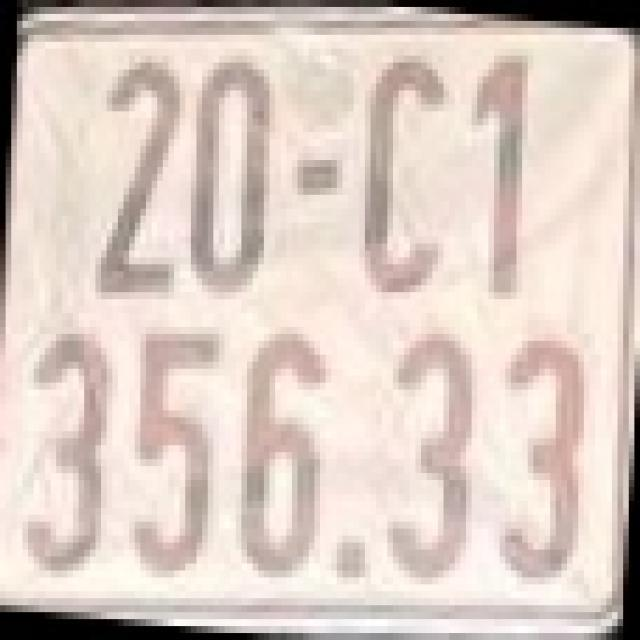0: (185, 55, 275, 292)
1: (466, 48, 539, 300)
2: (96, 56, 180, 300)
3: (388, 333, 478, 578), (22, 327, 112, 570), (500, 333, 584, 578)
5: (135, 327, 219, 570)
6: (242, 327, 326, 577)
C: (359, 49, 449, 292)
